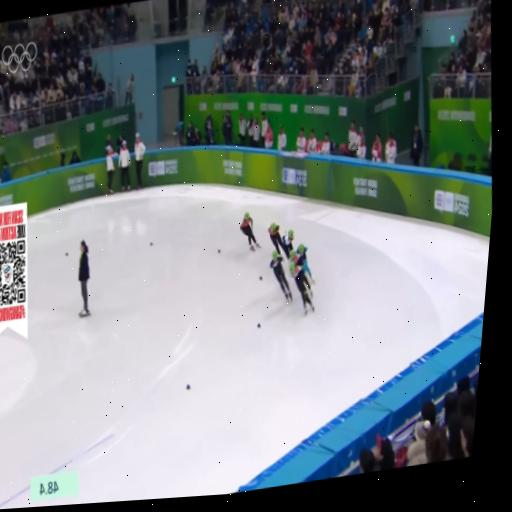Skater: (288, 260, 313, 314), (269, 251, 291, 301), (268, 223, 289, 258), (240, 212, 259, 250), (296, 244, 314, 282), (281, 230, 293, 251)
